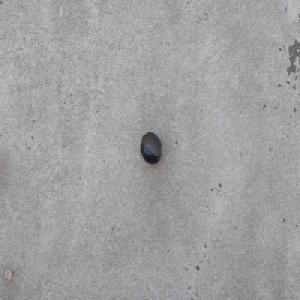FuelCap: (140, 131, 162, 165)
